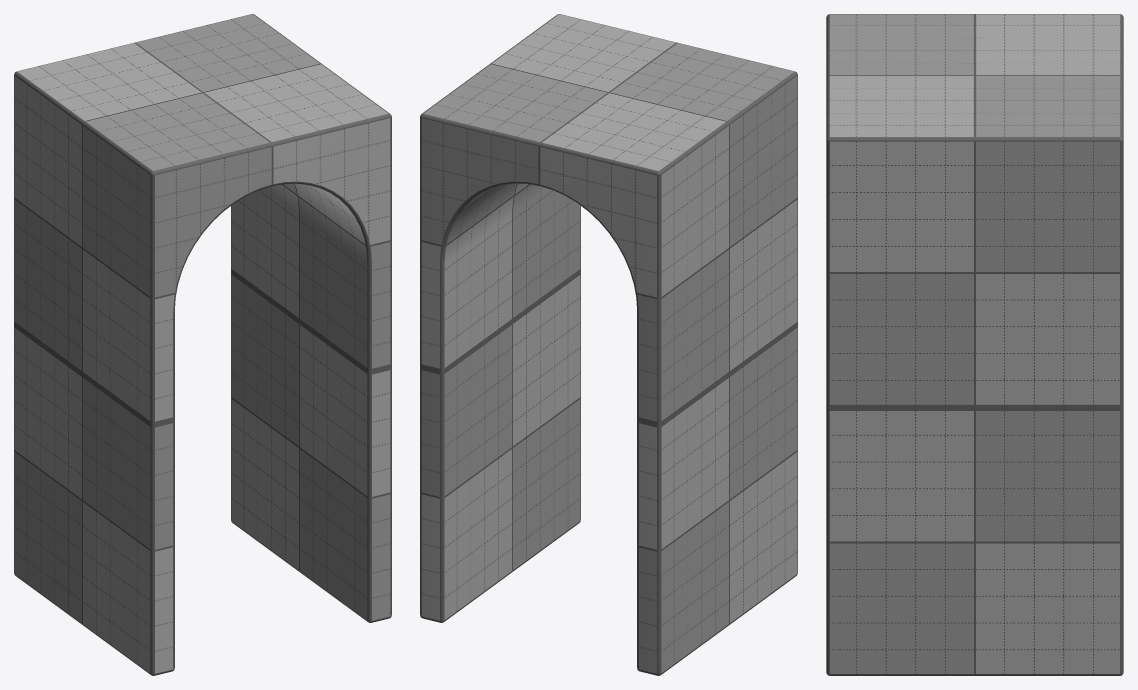
File: Gate1x2x1.fbx
The picture shows the model from 3 angles, left to right: view 1: azimuth 30°, elevation 25°; view 2: azimuth 150°, elevation 25°; view 3: azimuth 270°, elevation 25°; orthographic projection. The views are drawn at different scales.
Parts seen in each view (by area): view 1: Gate1x2x1; view 2: Gate1x2x1; view 3: Gate1x2x1.
Boxes of the visible parts, x1,y1,x2,y2 form: Gate1x2x1: [14, 14, 391, 675]; Gate1x2x1: [420, 14, 797, 675]; Gate1x2x1: [826, 14, 1123, 675].
Size of the model in its own units: 100 by 200 by 100.
